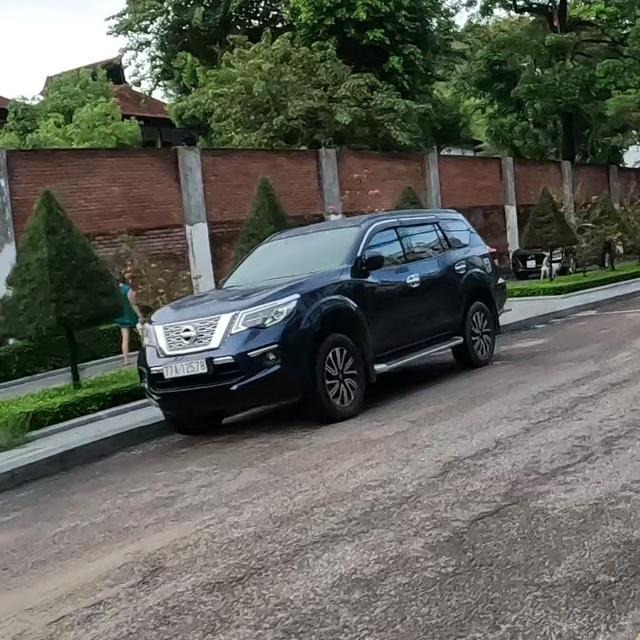license-plate: (161, 359, 209, 380)
